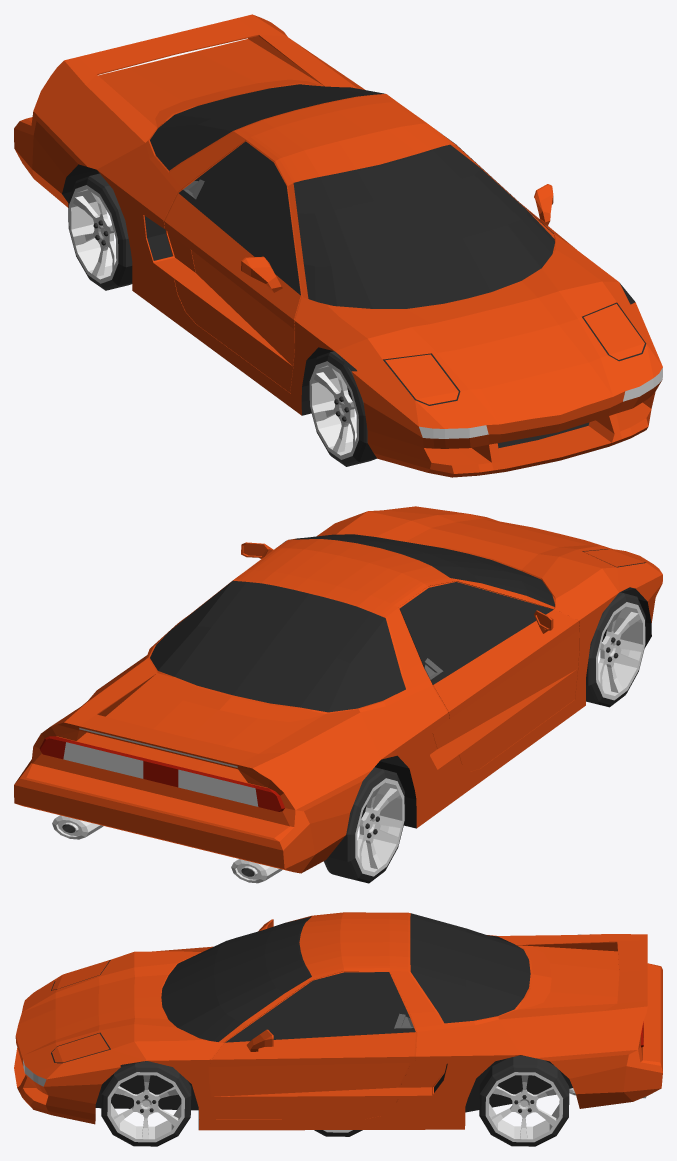
The model's file is Honda-NSX(deneme).fbx.
The picture shows the model from 3 angles, top to bottom: view 1: azimuth 30°, elevation 25°; view 2: azimuth 150°, elevation 25°; view 3: azimuth 270°, elevation 25°; orthographic projection. The views are drawn at different scales.
Visible parts, largest first — view 1: Body, RearRightWheels, FrontRightWheels; view 2: Body, RearRightWheels, FrontRightWheels; view 3: Body, RearLeftWheels, FrontLeftWheels.
Part boxes in pixels (<box>): Body: <box>14,14,662,477</box>; RearRightWheels: <box>68,173,132,290</box>; FrontRightWheels: <box>309,351,376,466</box>; Body: <box>14,506,662,883</box>; RearRightWheels: <box>324,767,405,883</box>; FrontRightWheels: <box>586,592,645,707</box>; Body: <box>14,912,662,1130</box>; RearLeftWheels: <box>479,1055,569,1146</box>; FrontLeftWheels: <box>101,1061,191,1146</box>.
Size of the model in its own units: 1.88 by 1.46 by 4.34.
